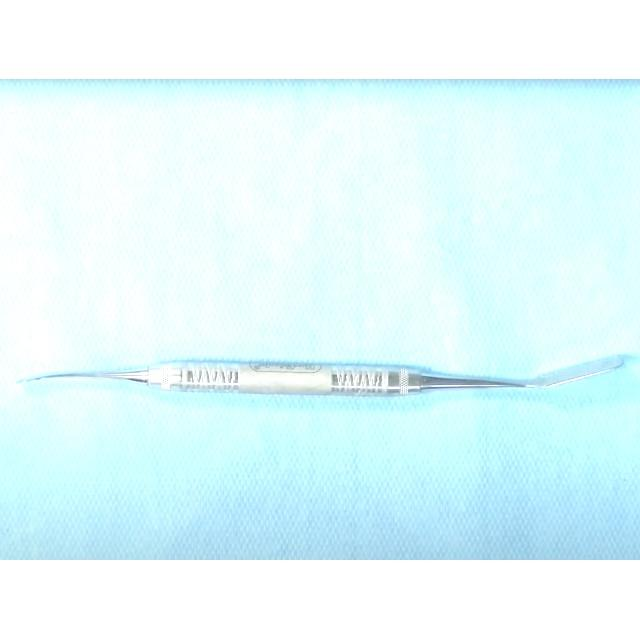elevador: (25, 355, 634, 399)
